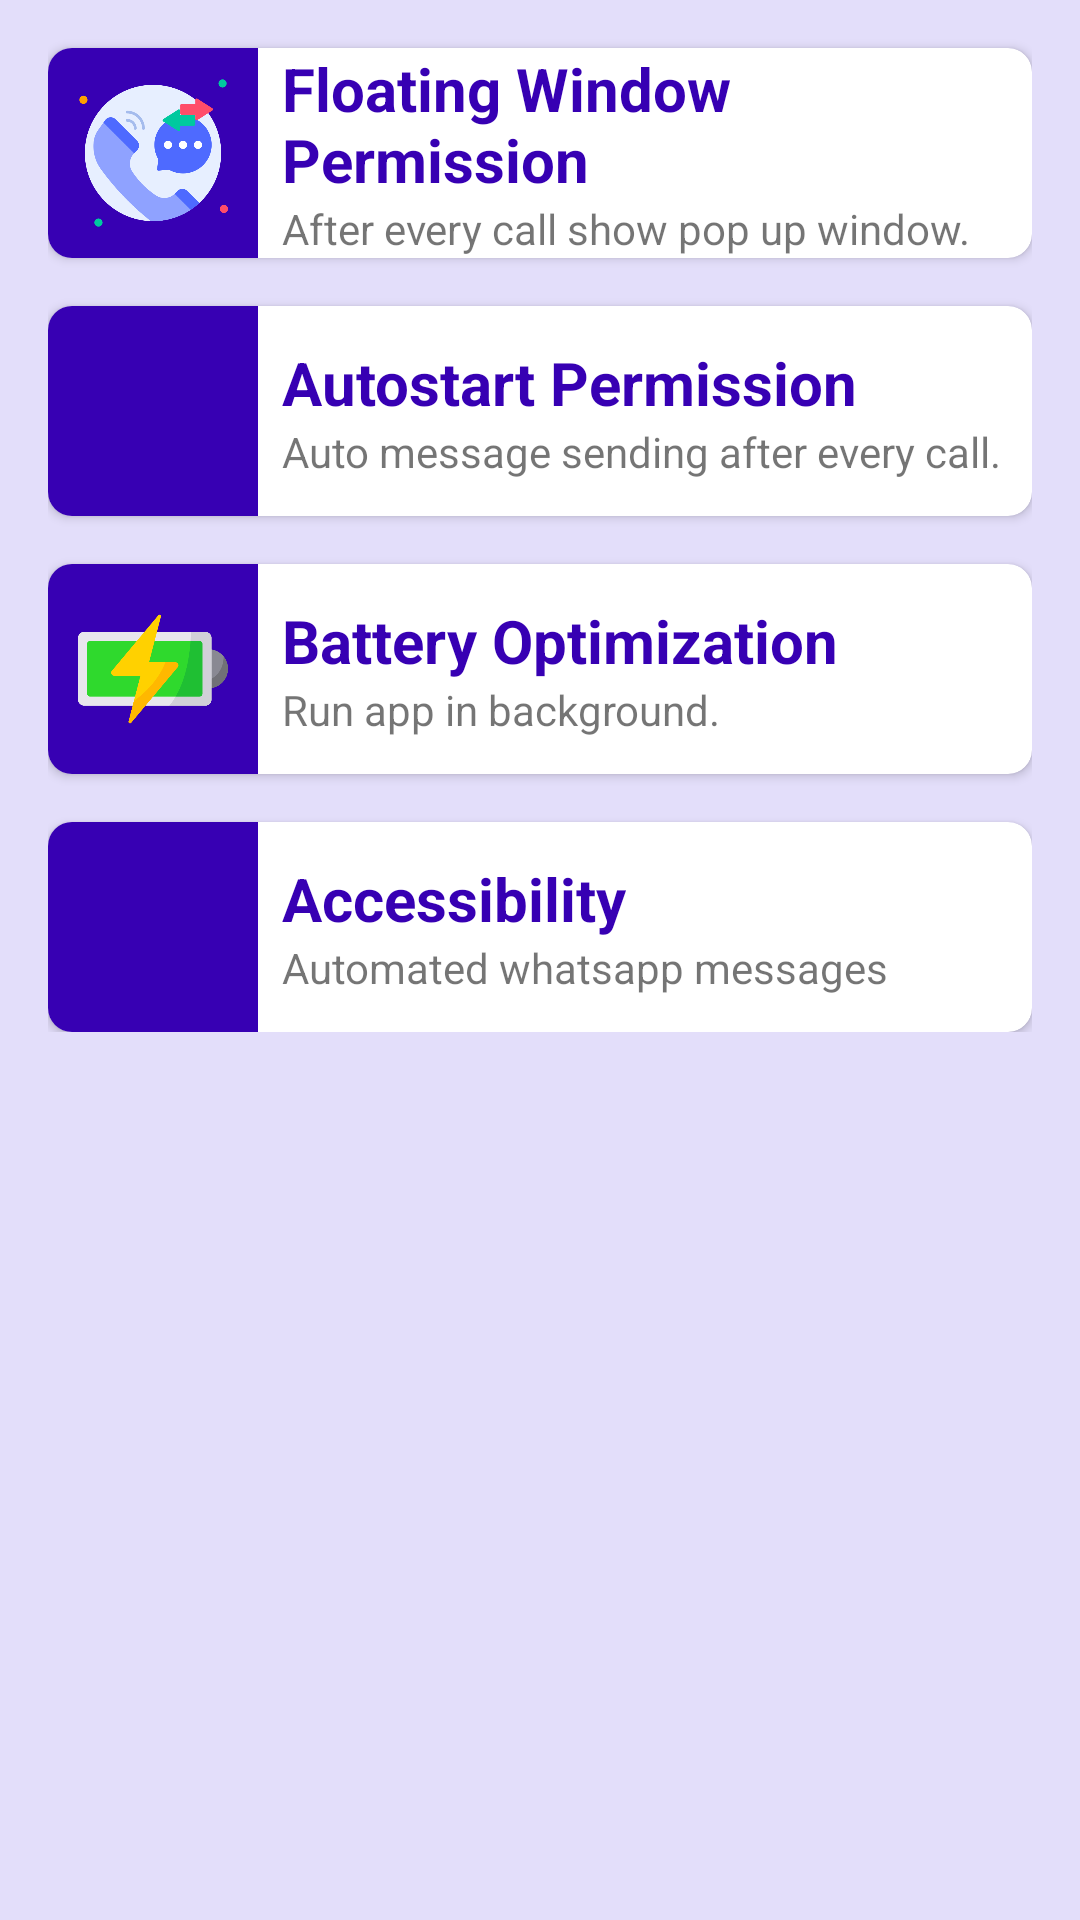

Where icons sit on this 1080w x 1920h app screen, as box=[x1, y1, x2, y2]:
telephone: box=[48, 48, 258, 258]
